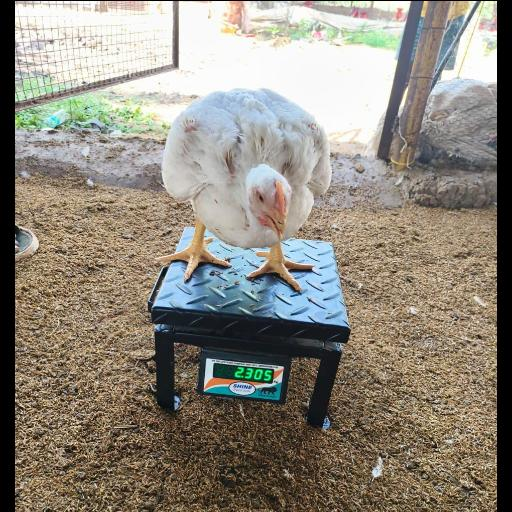chick: (154, 87, 331, 290)
